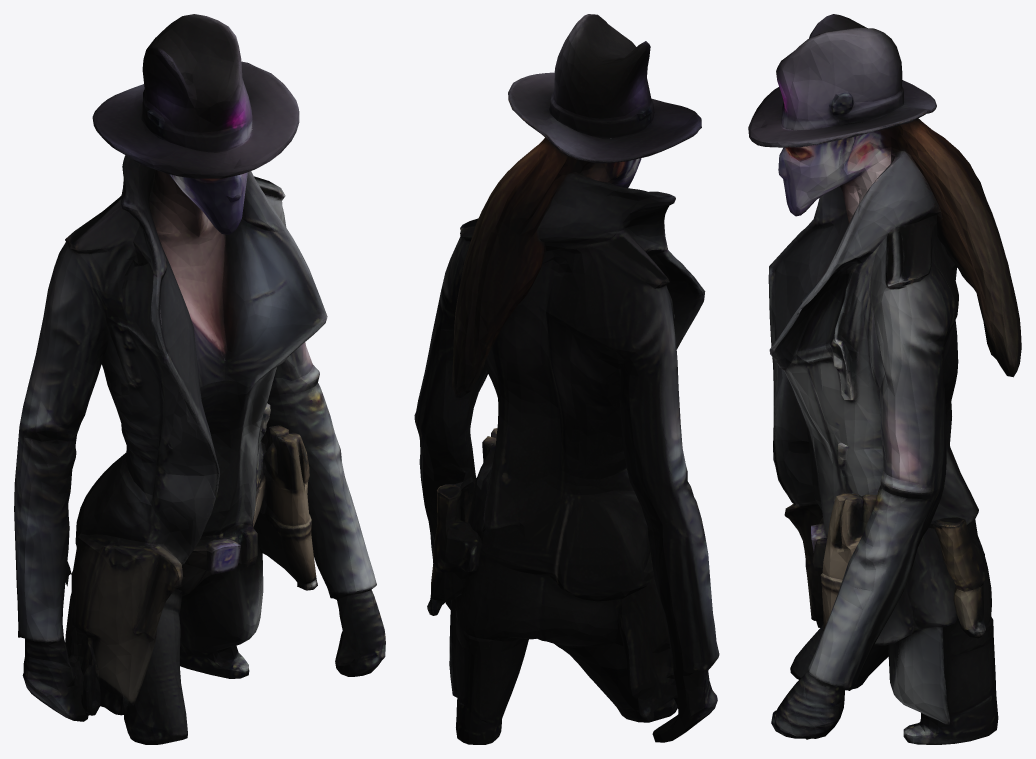
File: jessica_jones.glb
3 renders of one model, left to right at view 1: azimuth 30°, elevation 25°; view 2: azimuth 150°, elevation 25°; view 3: azimuth 270°, elevation 25°, orthographic. The views are drawn at different scales.
Parts seen in each view (by area): view 1: world; view 2: world; view 3: world.
Boxes of the visible parts, x1,y1,x2,y2 form: world: [14, 14, 385, 744]; world: [414, 14, 719, 744]; world: [748, 14, 1021, 744].
Size of the model in its own units: 0.4785 by 1 by 0.3644.
1 material, 1 textured.
